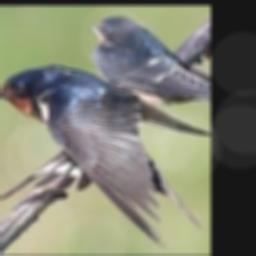Swallow: (0, 64, 210, 246), (91, 15, 210, 98)
